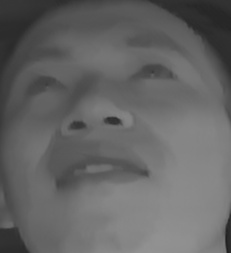eye: (127, 58, 180, 88), (22, 70, 68, 101)
mouth: (47, 142, 155, 198)
